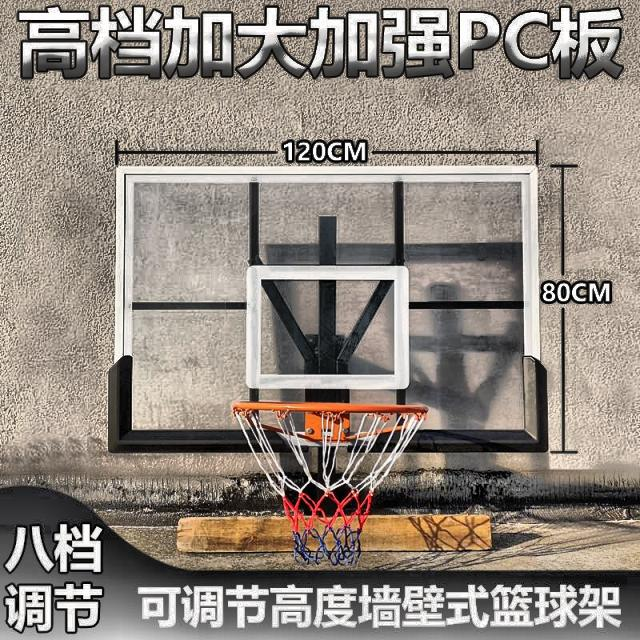rim: (232, 400, 426, 565)
